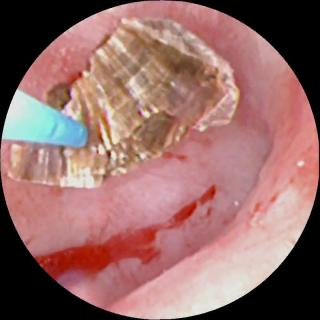fiber: (4, 93, 86, 145)
stone: (11, 18, 240, 187)
tissue: (6, 5, 314, 311)
